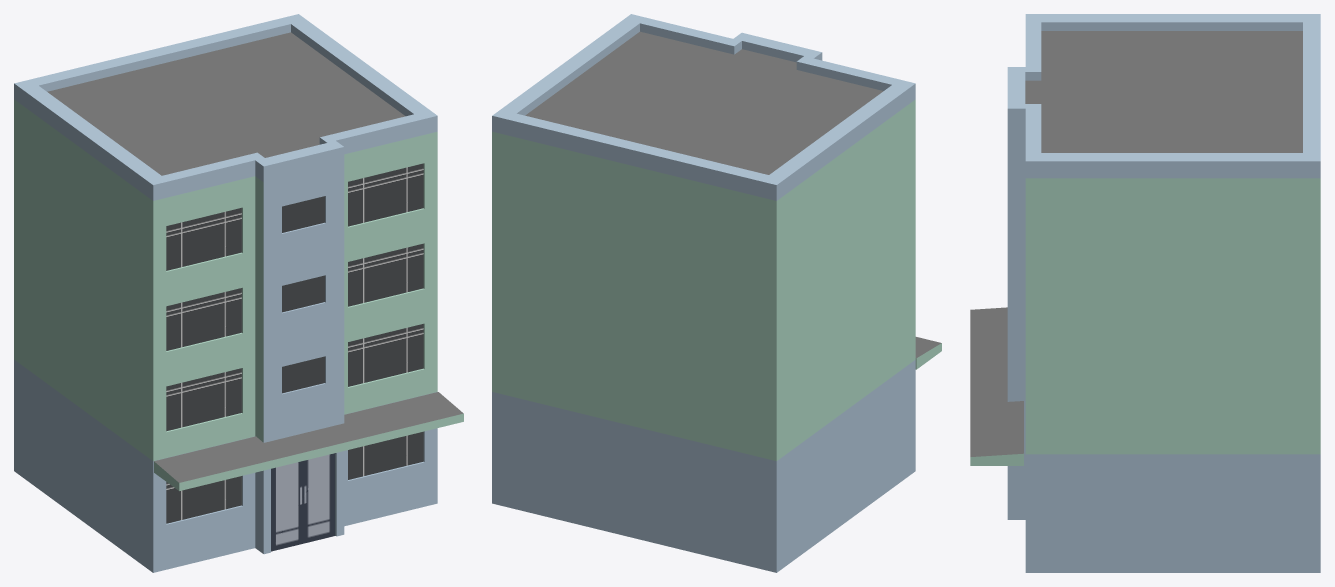
Rendered from Building_Green.fbx.
3 renders of one model, left to right at view 1: azimuth 30°, elevation 25°; view 2: azimuth 150°, elevation 25°; view 3: azimuth 270°, elevation 25°, orthographic. The views are drawn at different scales.
Visible parts, largest first — view 1: Buidling_Green; view 2: Buidling_Green; view 3: Buidling_Green.
Boxes of the visible parts, left/top/right/bottom form: Buidling_Green: left=14, top=14, right=463, bottom=572; Buidling_Green: left=492, top=14, right=941, bottom=572; Buidling_Green: left=970, top=14, right=1320, bottom=572.
Size of the model in its own units: 37.01 by 48.19 by 37.19.
1 material, 1 textured.
